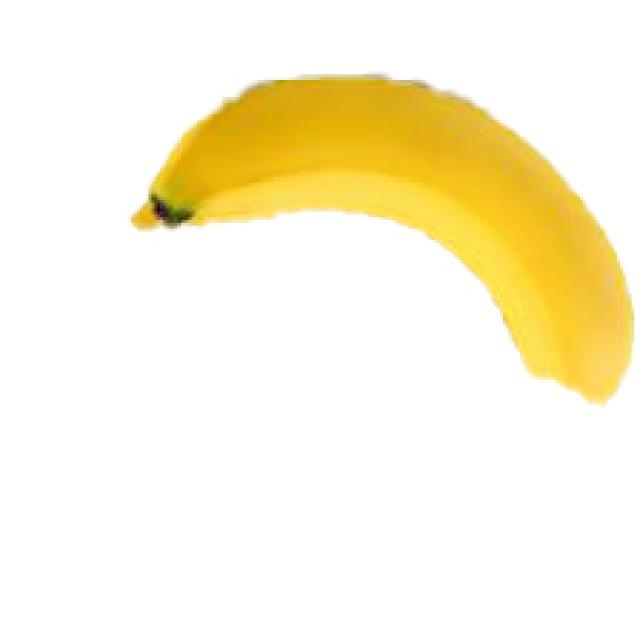fresh-banana: (129, 71, 634, 406)
